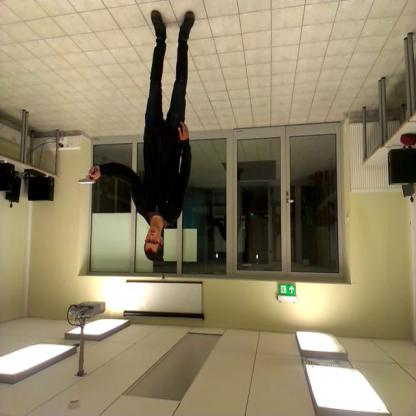Pistol: (72, 163, 98, 191)
